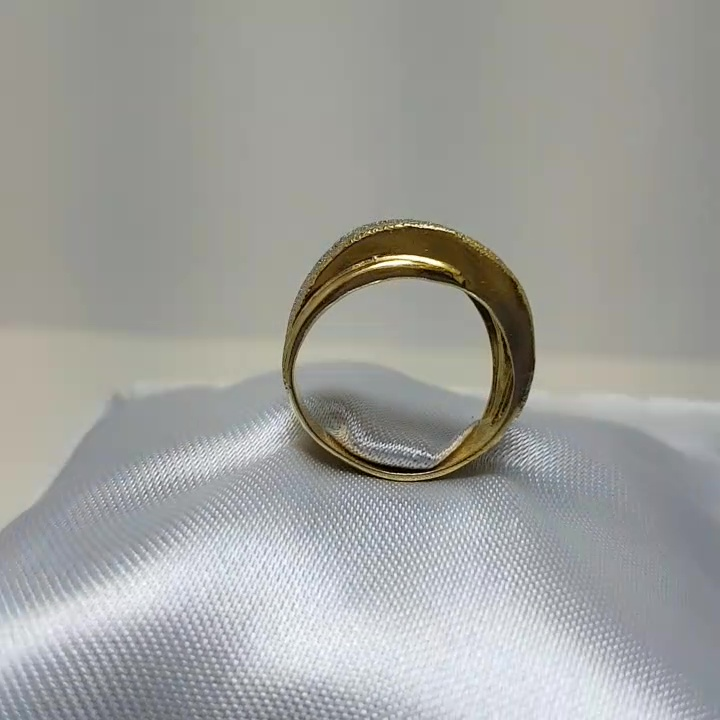Ring 5: (259, 196, 559, 510)
